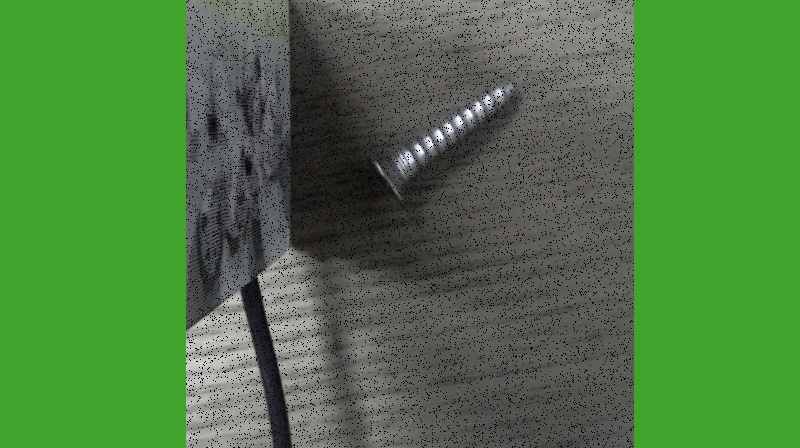S001: (362, 74, 521, 206)
